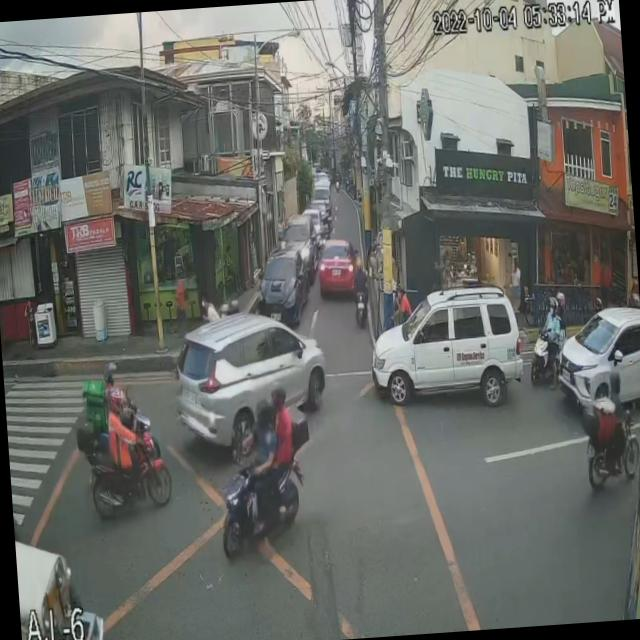full: (254, 398, 273, 429), (108, 387, 125, 418), (268, 383, 288, 408)
half: (102, 358, 119, 388), (556, 290, 566, 311), (548, 298, 558, 316)
